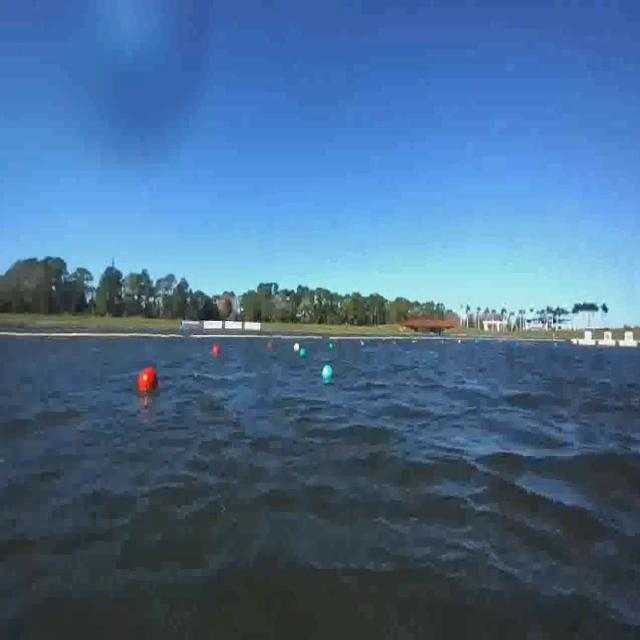green-buoy: (317, 357, 338, 385), (298, 344, 308, 360)
red-buoy: (140, 367, 158, 391), (210, 340, 222, 360)
